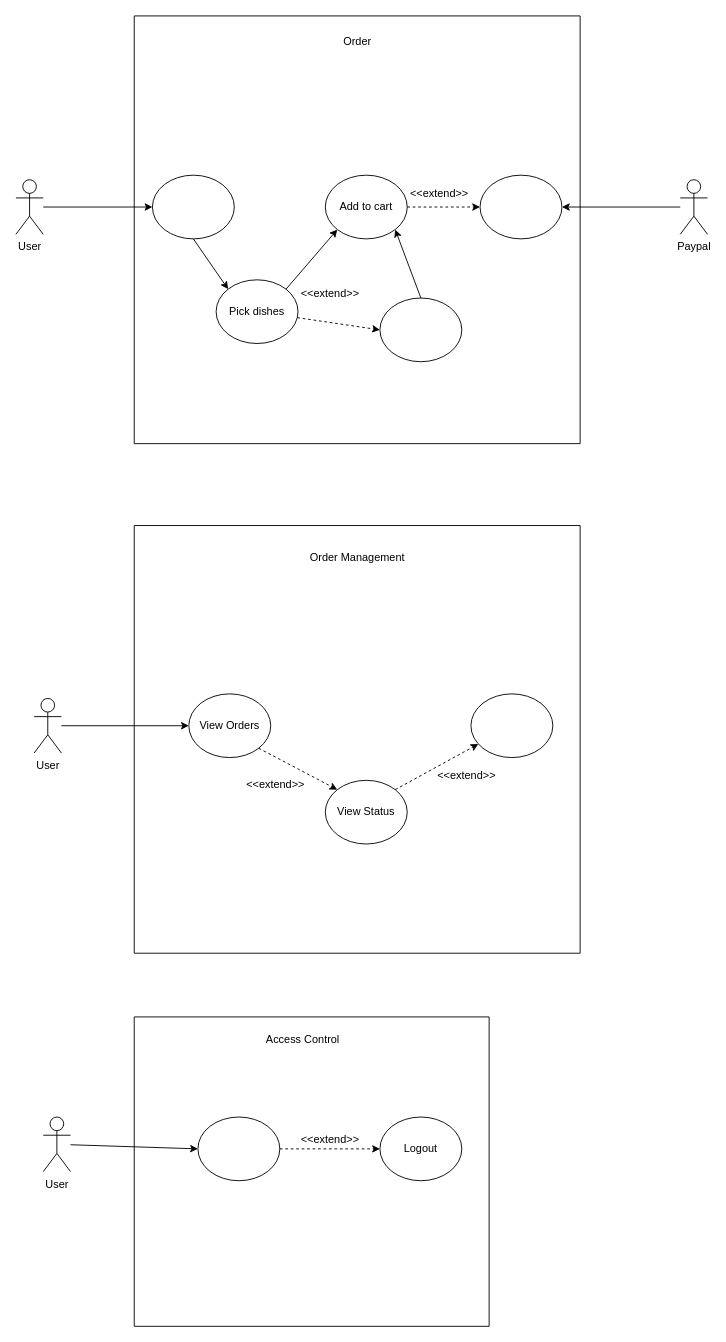
This 726x1342 diagram has some shape labels left out. The box of each missing label's shape, as (x1, y1, x2, y2) in pixels:
Adjust quantity: (379, 297, 462, 362)
Cancel Order: (470, 693, 553, 758)
Choose Restaurant: (152, 174, 234, 239)
Login: (197, 1116, 280, 1181)
Order and Pay: (479, 174, 562, 239)
